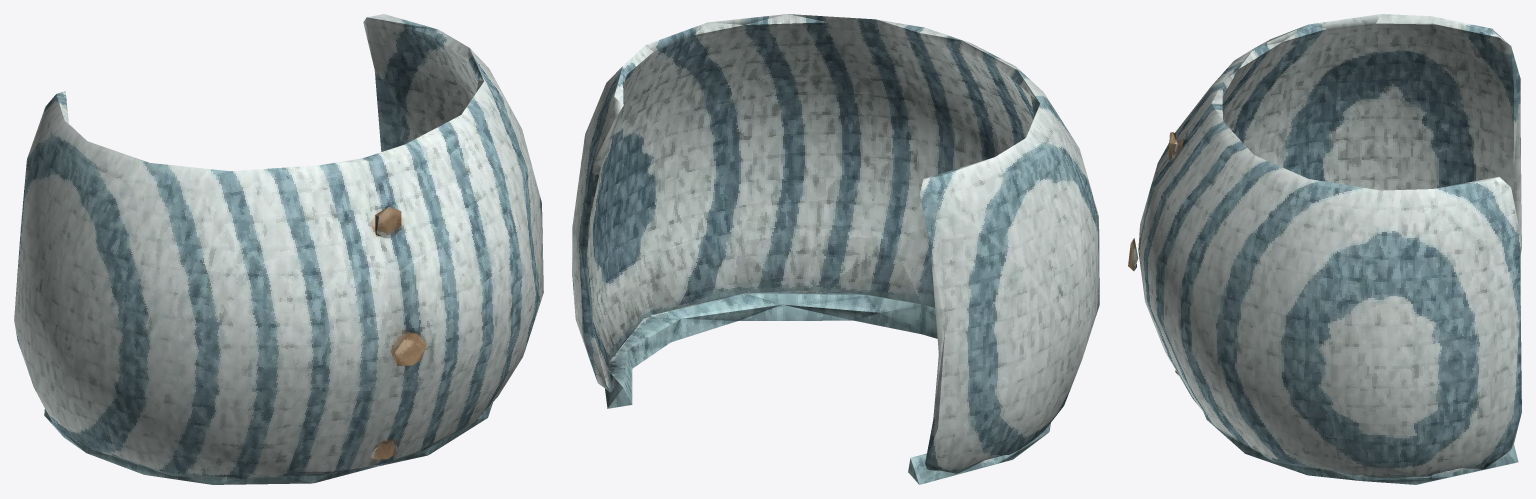
Rendered from pajamas.glb.
The picture shows the model from 3 angles, left to right: view 1: azimuth 30°, elevation 25°; view 2: azimuth 150°, elevation 25°; view 3: azimuth 270°, elevation 25°; orthographic projection. The views are drawn at different scales.
Parts seen in each view (by area): view 1: pajamas_mesh; view 2: pajamas_mesh; view 3: pajamas_mesh.
Part boxes in pixels (x1,y1,x2,y2): pajamas_mesh: [14, 14, 543, 484]; pajamas_mesh: [572, 14, 1099, 484]; pajamas_mesh: [1128, 14, 1521, 484].
Bounding box in the file's own units: 26.59 × 16.68 × 20.28.
1 material, 1 textured.
